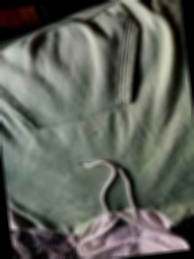oil: (68, 93, 97, 130), (89, 129, 103, 144)
